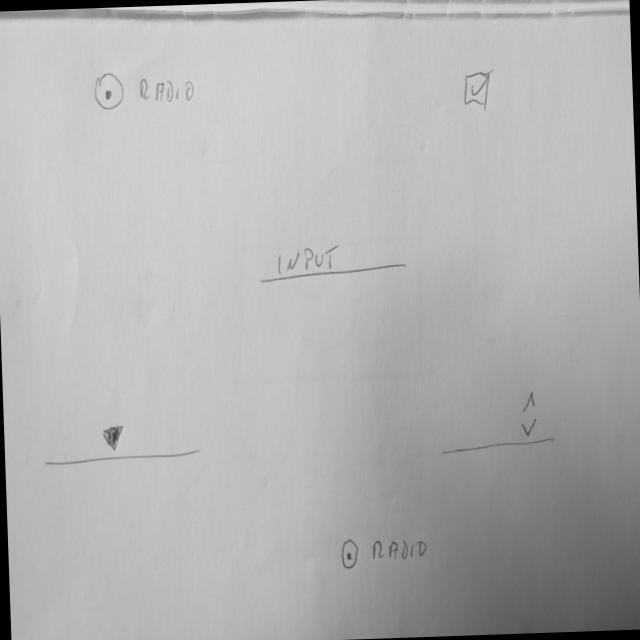checkbox: (461, 66, 494, 112)
input: (256, 240, 409, 288)
number-input: (435, 386, 558, 458)
radio: (92, 67, 197, 115), (338, 532, 432, 572)
